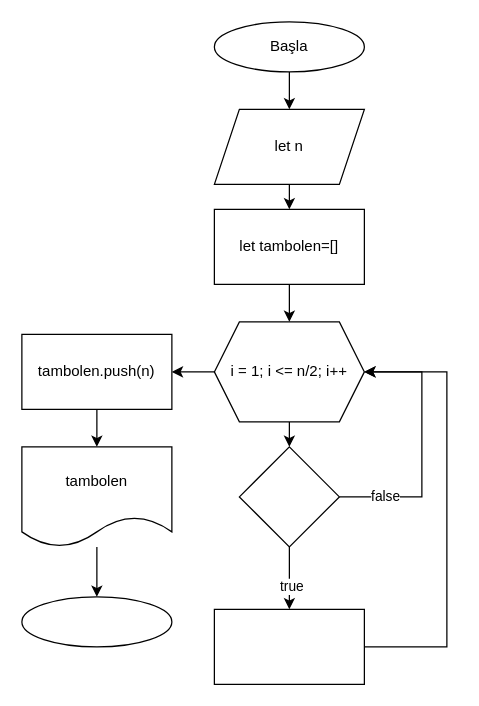
The diagram is 479 pixels wide and 706 high, and some of its shapes have lost their labels. Each missing label, with the box of its shape:
Bitir: (21, 596, 172, 647)
n % i == 0: (238, 446, 339, 547)
tambolen.push(i): (213, 608, 364, 684)
